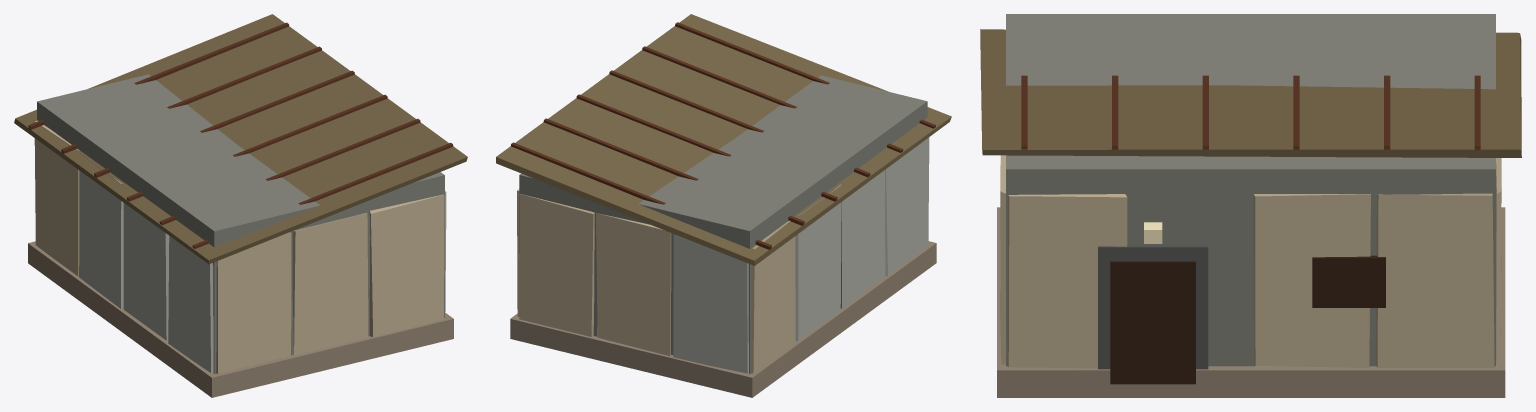
The model's file is scrap_shelter_lean.glb.
3 renders of one model, left to right at view 1: azimuth 30°, elevation 25°; view 2: azimuth 150°, elevation 25°; view 3: azimuth 270°, elevation 25°, orthographic. The views are drawn at different scales.
Visible parts, largest first — view 1: scrap_shelter_lean; view 2: scrap_shelter_lean; view 3: scrap_shelter_lean.
Boxes of the visible parts, x1,y1,x2,y2 form: scrap_shelter_lean: [14, 14, 467, 397]; scrap_shelter_lean: [496, 14, 951, 397]; scrap_shelter_lean: [980, 14, 1521, 397].
Size of the model in its own units: 6.77 by 4.63 by 8.84.
